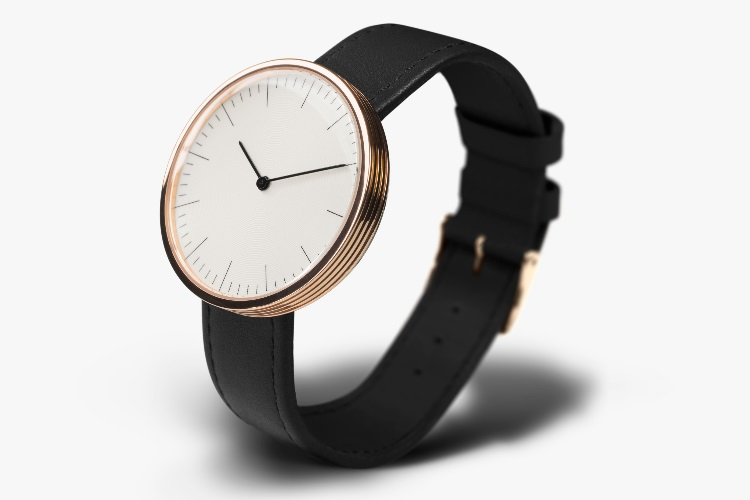clock: (159, 59, 393, 319)
